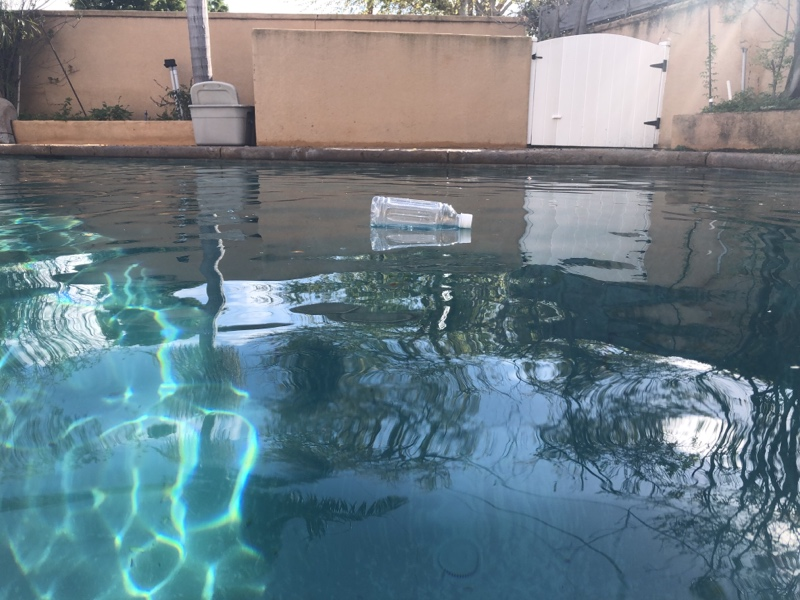Plastic Bottle: (369, 192, 475, 235)
